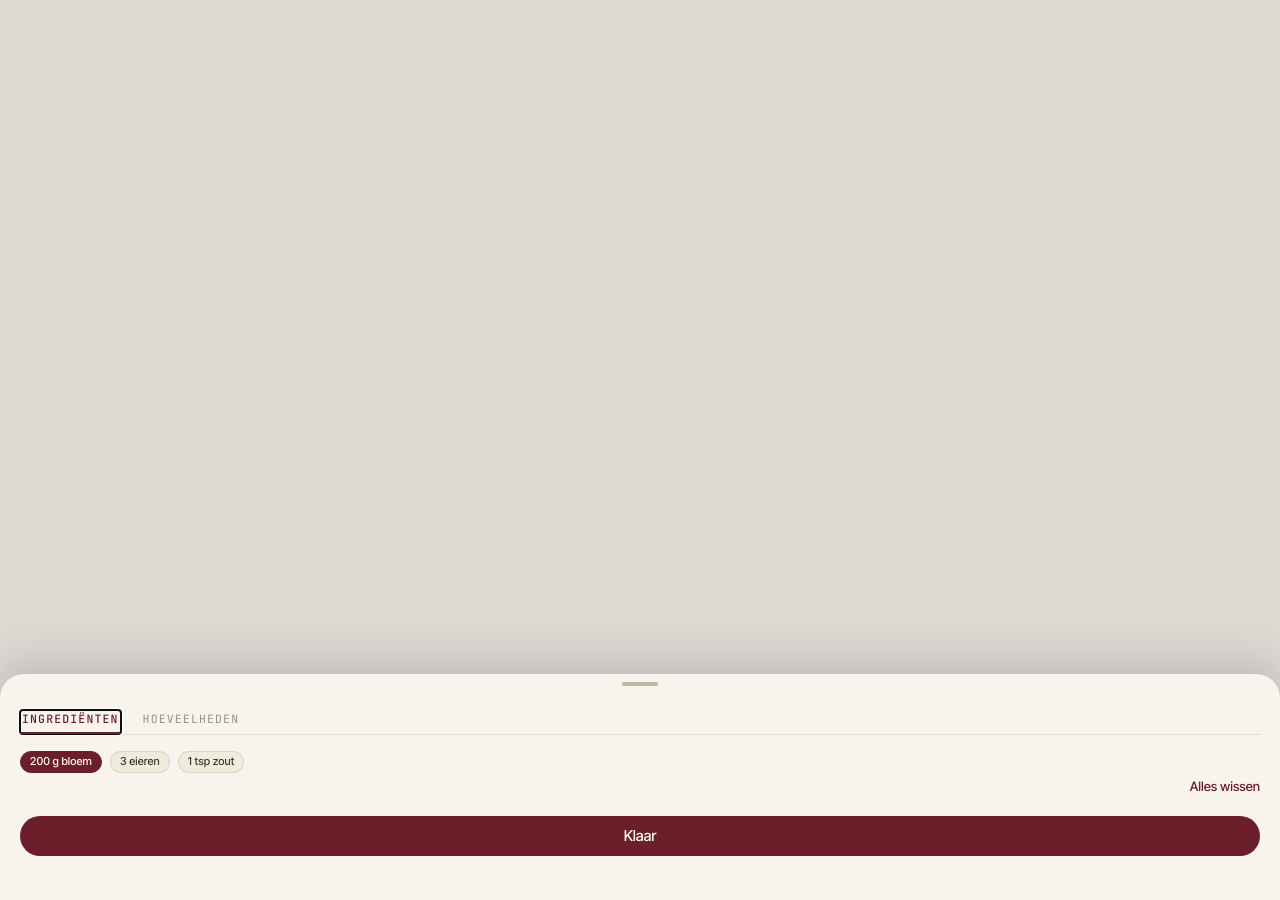
Test: IngredientPickerSheet › shows an error when the entered amount is not a valid number
The image size is (1280, 900).
Click the button "Hoeveelheden": (191, 722) left=141, top=710, right=241, bottom=734
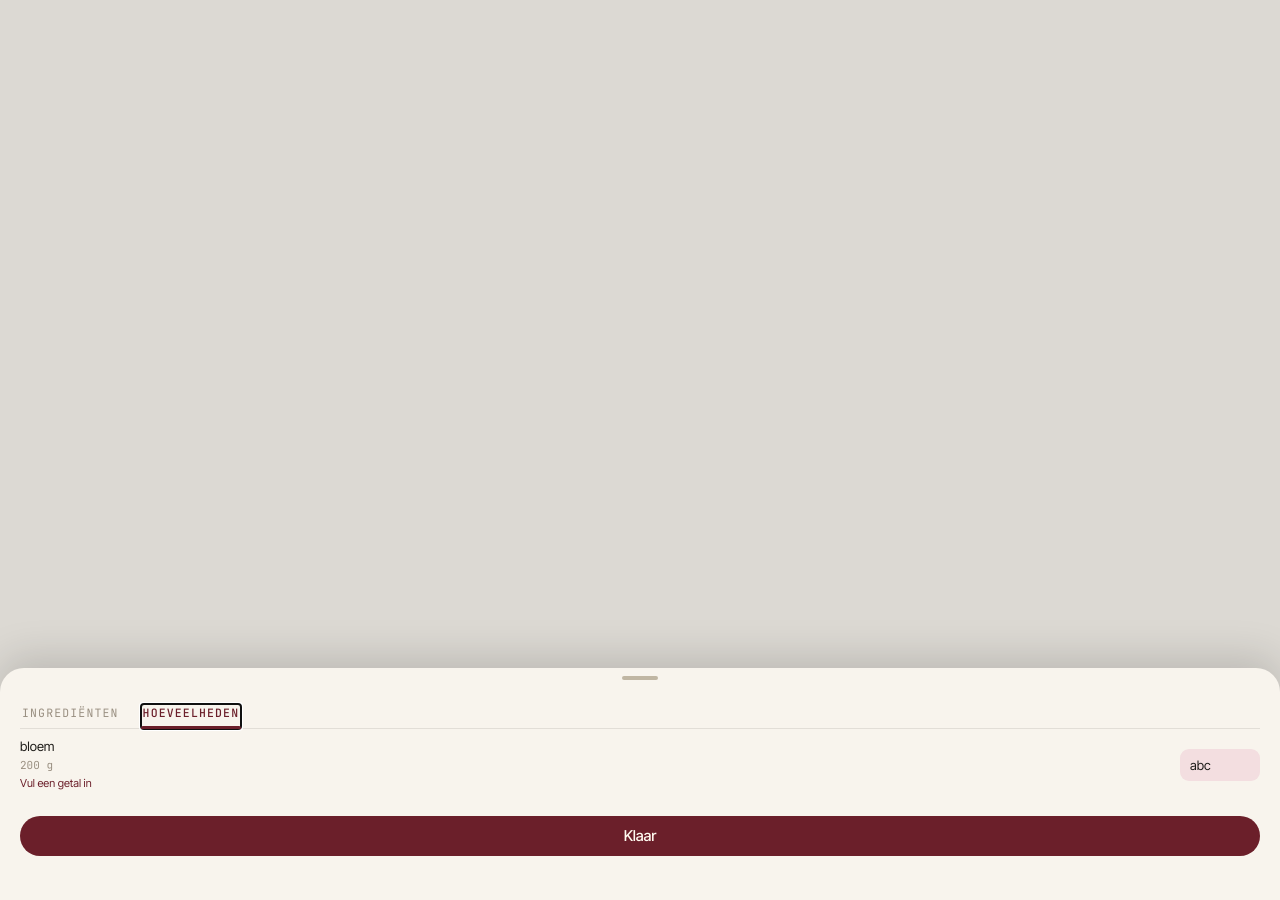
Now the text "Vul een getal in" is shown, box left=20, top=776, right=92, bottom=790
